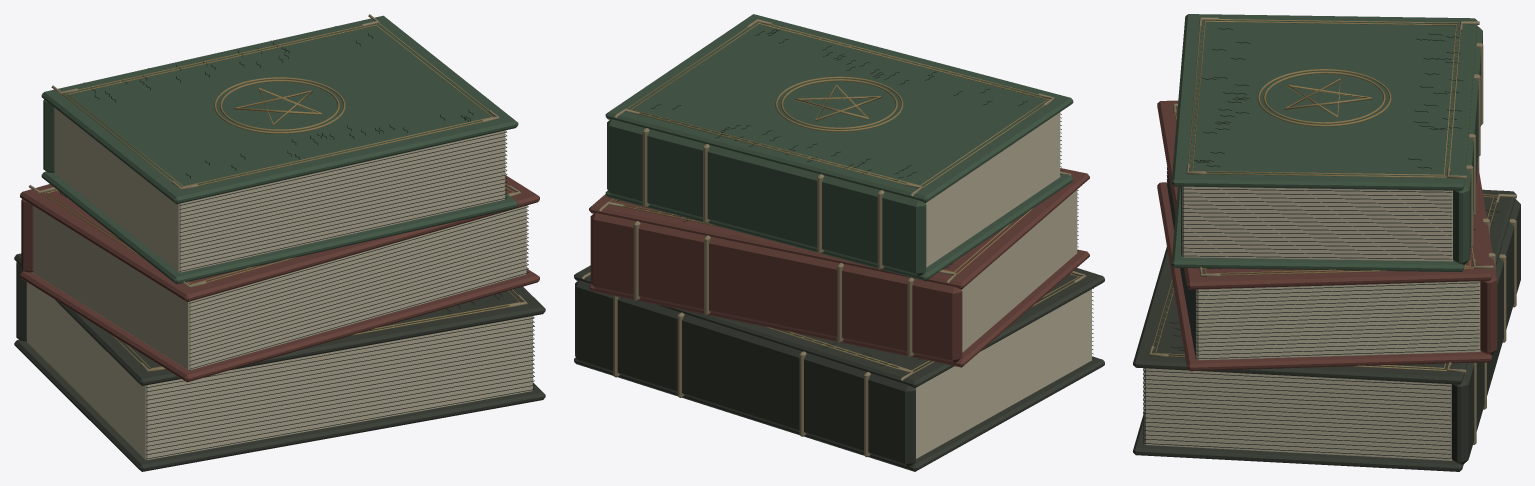
Rendered from MD-10-books.glb.
3 renders of one model, left to right at view 1: azimuth 30°, elevation 25°; view 2: azimuth 150°, elevation 25°; view 3: azimuth 270°, elevation 25°, orthographic. The views are drawn at different scales.
Visible parts, largest first — view 1: Book_Leather_cover.011, Book_Page_block.003, Book_Page_block.004, Book_Page_block.005, Book_Leather_cover.009, Book_Leather_cover.007, Book_Leather_cover.006, Book_Leather_cover.008, Book_Leather_cover.010, Book_Cover_rule.023, Book_Cover_rule.022, Book_Rounded_spine.004 (+5 smaller); view 2: Book_Leather_cover.011, Book_Rounded_spine.004, Book_Rounded_spine.003, Book_Rounded_spine.005, Book_Page_block.003, Book_Page_block.005, Book_Page_block.004, Book_Leather_cover.007, Book_Leather_cover.009, Book_Leather_cover.006, Book_Leather_cover.008, Book_Leather_cover.010 (+5 smaller); view 3: Book_Leather_cover.011, Book_Page_block.003, Book_Page_block.004, Book_Page_block.005, Book_Leather_cover.007, Book_Leather_cover.009, Book_Leather_cover.008, Book_Rounded_spine.003, Book_Leather_cover.006, Book_Leather_cover.010, Book_Rounded_spine.005, Book_Rounded_spine.004 (+10 smaller).
Part boxes in pixels (<box>): Book_Leather_cover.011: <box>41,15,518,204</box>; Book_Page_block.003: <box>27,282,532,460</box>; Book_Page_block.004: <box>33,205,526,370</box>; Book_Page_block.005: <box>54,108,505,272</box>; Book_Leather_cover.009: <box>20,175,539,302</box>; Book_Leather_cover.007: <box>14,253,545,385</box>; Book_Leather_cover.006: <box>14,340,545,471</box>; Book_Leather_cover.008: <box>20,268,539,382</box>; Book_Leather_cover.010: <box>41,171,518,284</box>; Book_Cover_rule.023: <box>67,24,492,186</box>; Book_Cover_rule.022: <box>61,23,488,185</box>; Book_Rounded_spine.004: <box>21,199,33,272</box>; Book_Leather_cover.011: <box>605,14,1073,203</box>; Book_Rounded_spine.004: <box>590,213,962,362</box>; Book_Rounded_spine.003: <box>575,280,915,466</box>; Book_Rounded_spine.005: <box>607,119,926,276</box>; Book_Page_block.003: <box>915,289,1091,458</box>; Book_Page_block.005: <box>925,112,1060,267</box>; Book_Page_block.004: <box>961,190,1077,352</box>; Book_Leather_cover.007: <box>574,265,1104,387</box>; Book_Leather_cover.009: <box>589,168,1089,289</box>; Book_Leather_cover.006: <box>574,356,1104,471</box>; Book_Leather_cover.008: <box>589,249,1089,367</box>; Book_Leather_cover.010: <box>605,173,1073,281</box>; Book_Leather_cover.011: <box>1171,14,1477,190</box>; Book_Page_block.003: <box>1144,368,1452,460</box>; Book_Page_block.004: <box>1196,281,1480,360</box>; Book_Page_block.005: <box>1182,186,1453,261</box>; Book_Leather_cover.007: <box>1133,189,1516,384</box>; Book_Leather_cover.009: <box>1157,100,1491,289</box>; Book_Leather_cover.008: <box>1157,182,1491,371</box>; Book_Rounded_spine.003: <box>1451,199,1520,464</box>; Book_Leather_cover.006: <box>1133,412,1463,471</box>; Book_Leather_cover.010: <box>1171,186,1464,271</box>; Book_Rounded_spine.005: <box>1453,26,1482,264</box>; Book_Rounded_spine.004: <box>1476,163,1497,354</box>.
Bounding box in the file's own units: 0.3724 × 0.2322 × 0.2977.
